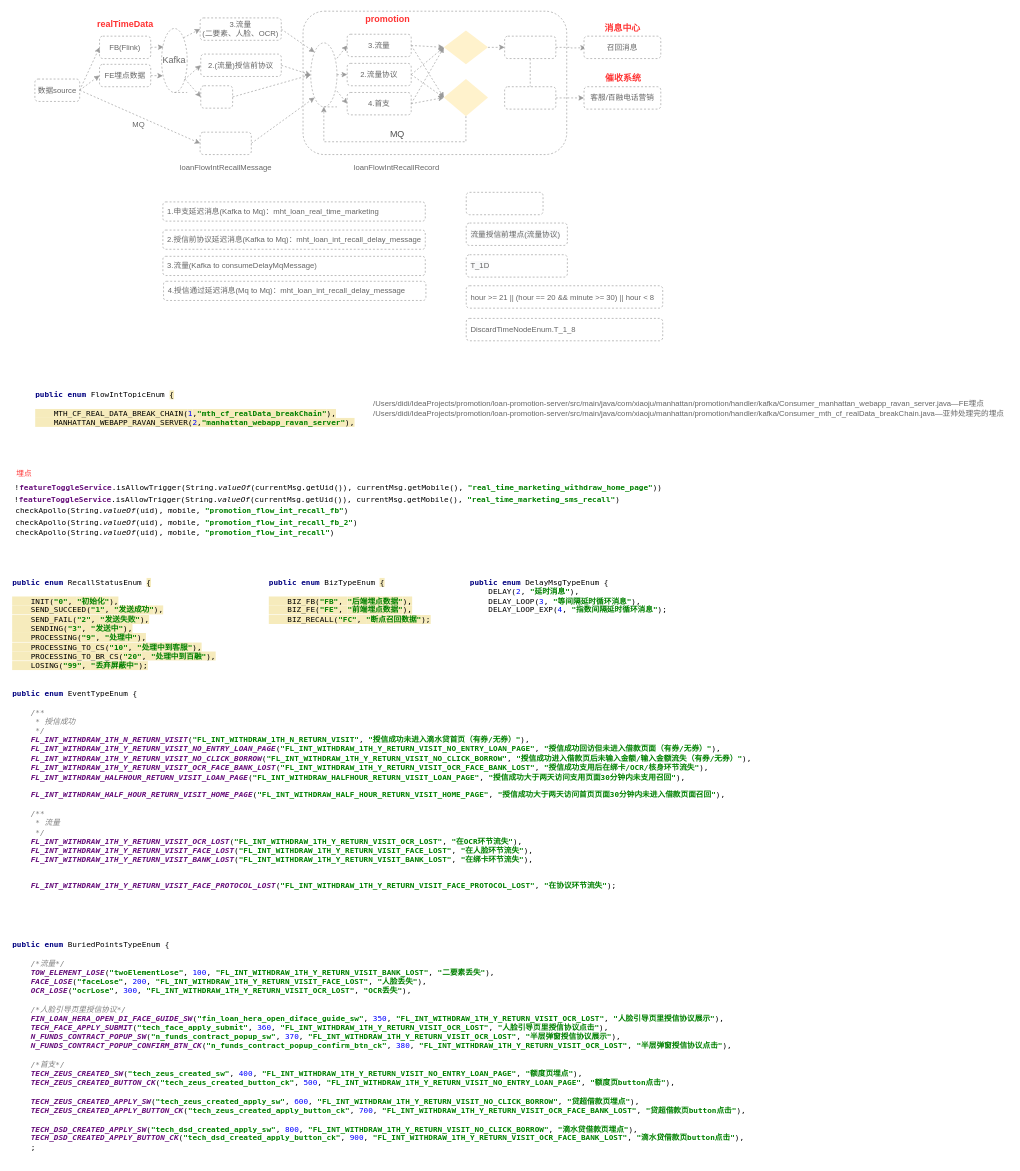
This 1020x1171 diagram has some shape labels left out. The shapes that lost their labels are listed below. From the top down, each one's box as (x1, y1, x2, y2) in pixels, then its label:
(444, 30, 488, 64): 是否 召回
(504, 36, 556, 59): 召回
(310, 42, 337, 107): 延 迟 消 息
(200, 85, 233, 108): 1.申支
(444, 79, 488, 116): 重发延 迟消息
(504, 86, 556, 109): 数据留存
(199, 132, 251, 155): 4.授信通过
(466, 192, 543, 215): 消费授信MQ
